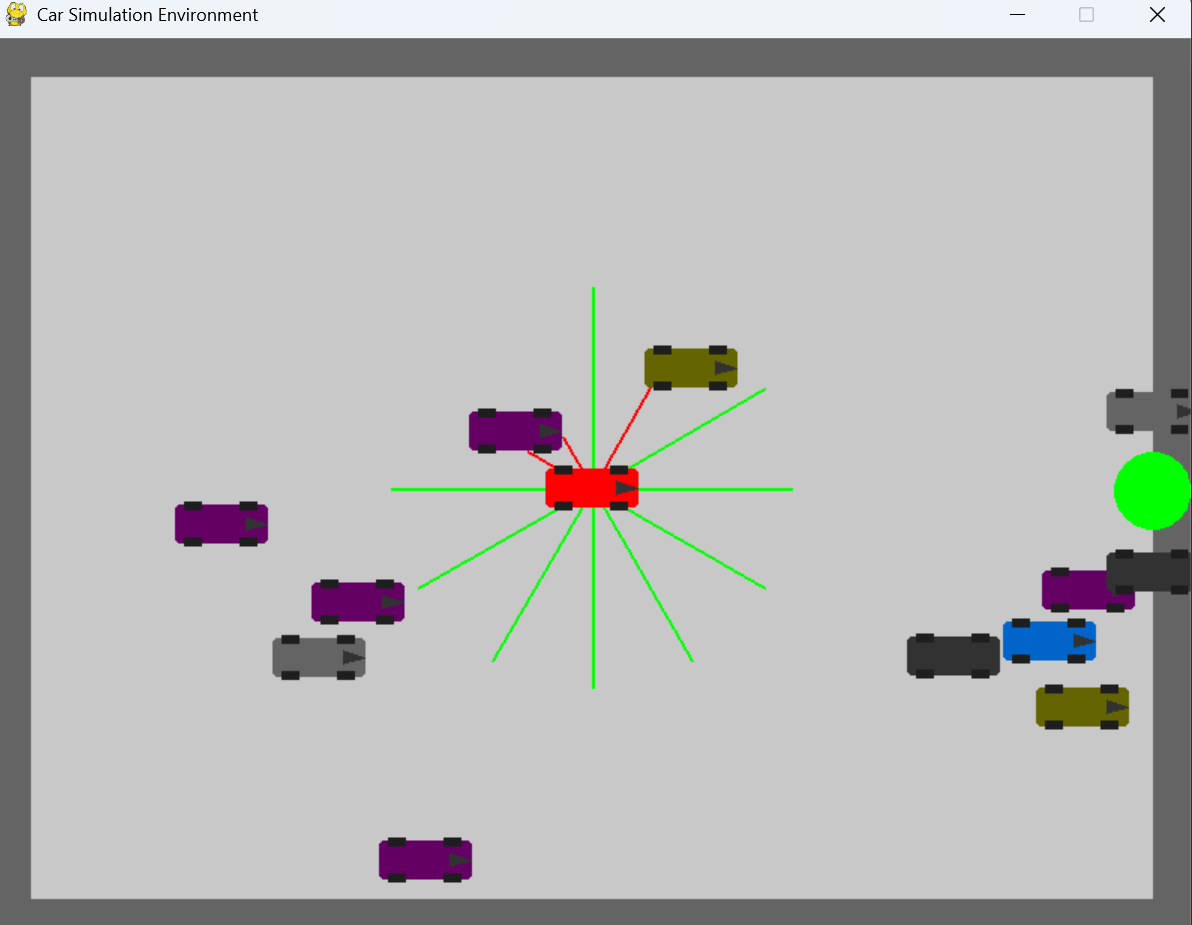Controlled Car: (530, 452, 654, 528)
Goal: (1103, 445, 1192, 535)
Obstacle Car: (1026, 546, 1140, 635), (152, 481, 283, 557), (626, 325, 756, 400), (882, 619, 999, 702), (1086, 363, 1192, 445), (266, 619, 374, 691), (310, 557, 412, 631), (359, 828, 482, 886), (1091, 535, 1192, 605), (1026, 679, 1142, 738), (459, 403, 574, 457), (999, 614, 1102, 673)
